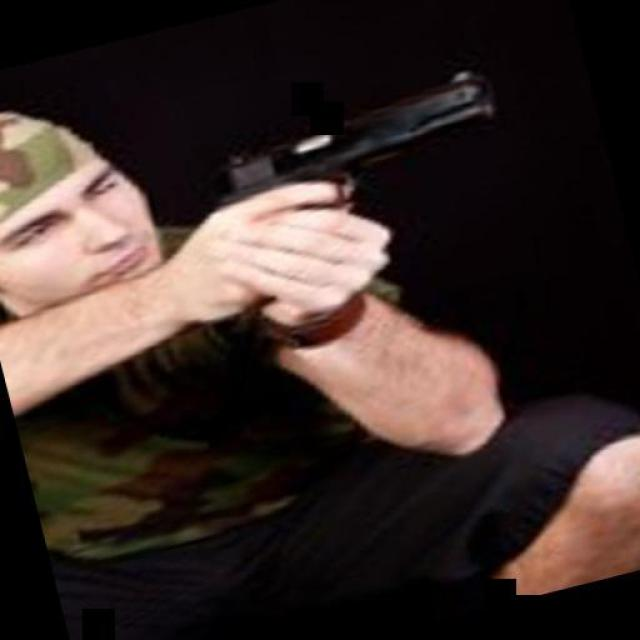gun: (180, 49, 556, 336)
